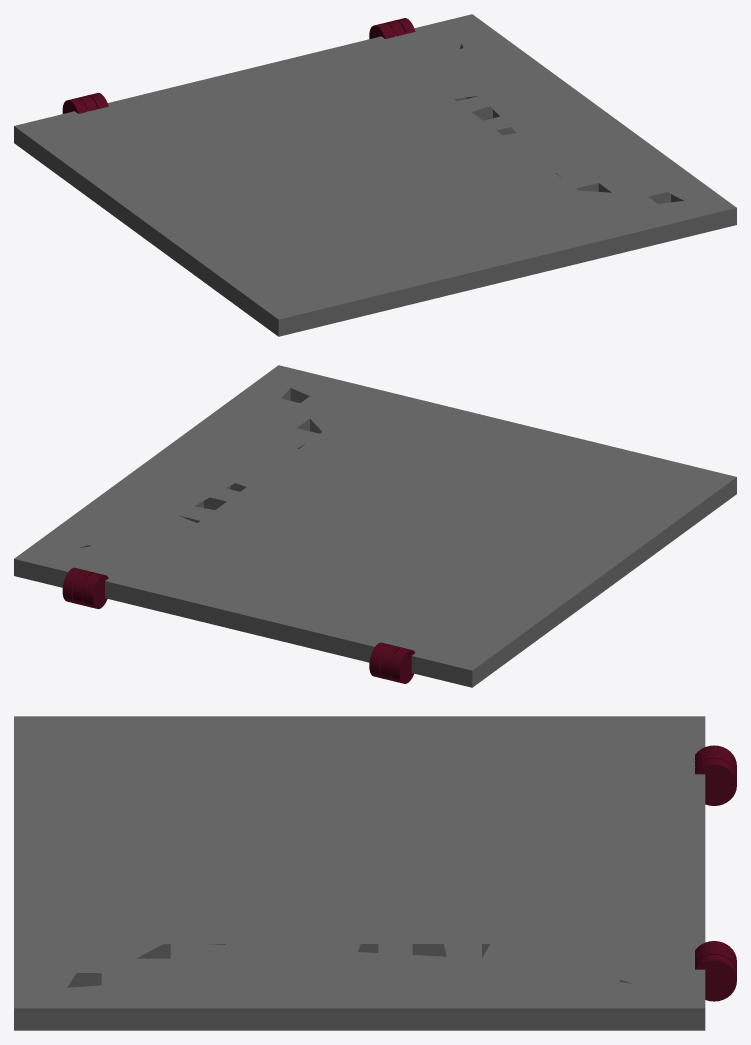
The model's file is IronGrate.fbx.
3 views of the same model, one above another, from view 1: azimuth 30°, elevation 25°; view 2: azimuth 150°, elevation 25°; view 3: azimuth 270°, elevation 25° (orthographic). The views are drawn at different scales.
Parts seen in each view (by area): view 1: Cube; view 2: Cube; view 3: Cube.
Boxes of the visible parts, box(x1,y1,x2,y2) form: Cube: box(14, 14, 736, 336); Cube: box(14, 365, 736, 687); Cube: box(14, 716, 736, 1030).
Size of the model in its own units: 200 by 13.21 by 209.
